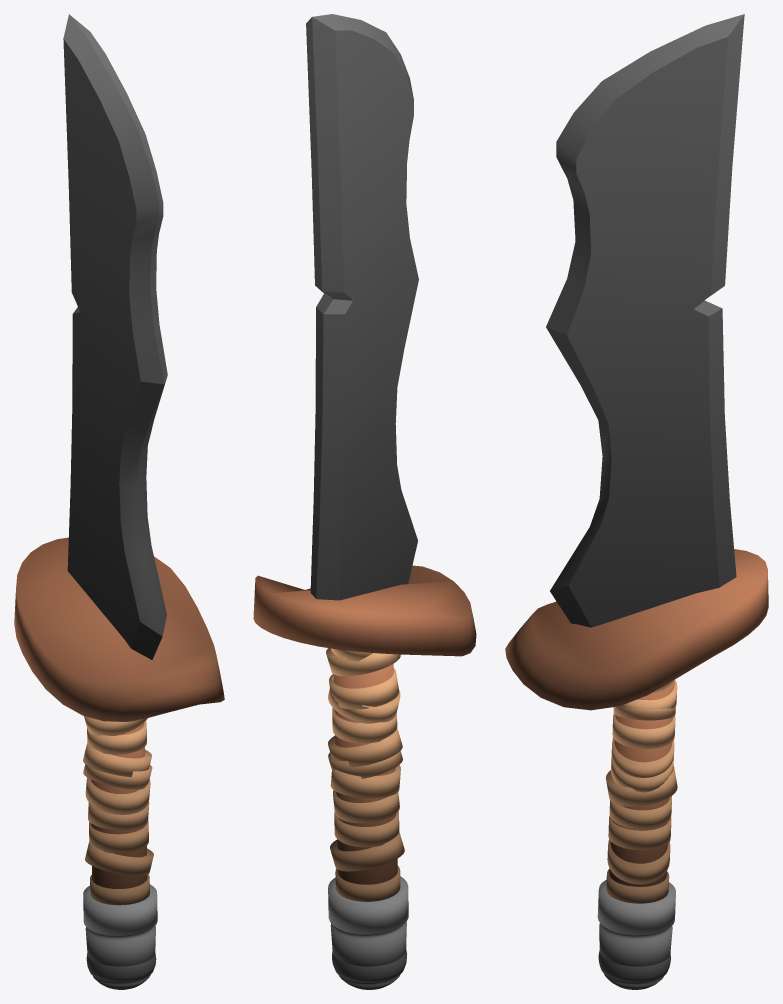
File: Knife.glb
3 renders of one model, left to right at view 1: azimuth 30°, elevation 25°; view 2: azimuth 150°, elevation 25°; view 3: azimuth 270°, elevation 25°, orthographic. The views are drawn at different scales.
Visible parts, largest first — view 1: Plane, Cylinder; view 2: Plane, Cylinder; view 3: Plane, Cylinder.
Boxes of the visible parts, left/top/right/bottom form: Plane: left=63, top=14, right=167, bottom=659; Cylinder: left=14, top=537, right=224, bottom=989; Plane: left=306, top=14, right=418, bottom=600; Cylinder: left=253, top=565, right=476, bottom=989; Plane: left=546, top=14, right=744, bottom=627; Cylinder: left=505, top=549, right=768, bottom=989.
Size of the model in its own units: 1.13 by 6.1 by 1.5.
Materials: 1 (1 with a texture image).
